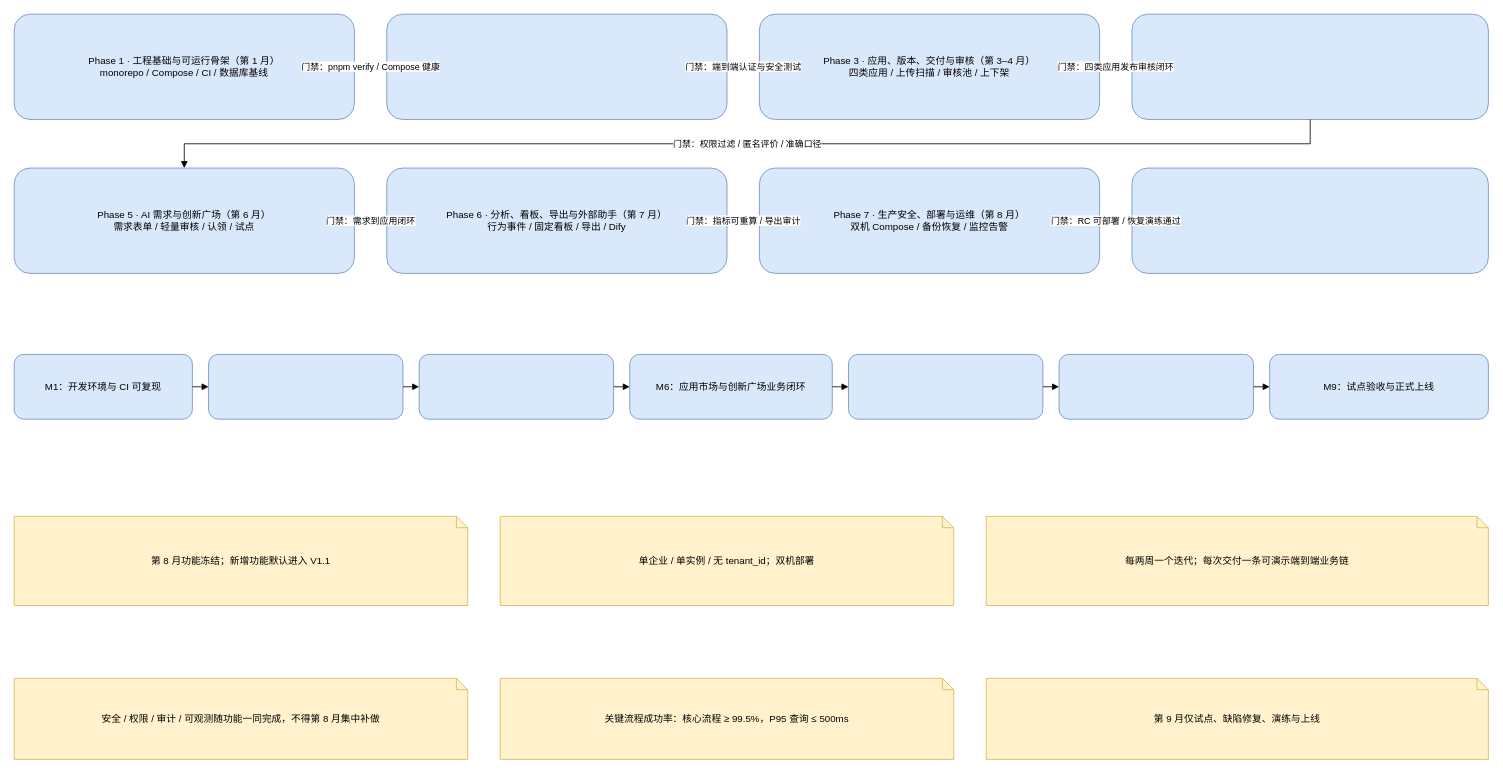
Image size: 1503x774. Some labels were removed from this diagram. Here are the shapes that lost their labels. From the top down, the centre of each, then its label:
pixel 556 66: Phase 2 · 身份、组织与授权（第 2 月） 账密 + 钉钉 OAuth / 组织同步 / RBAC
pixel 1309 66: Phase 4 · 市场、搜索、互动与创作者中心（第 5 月） 权限过滤 / 搜索 / 评价举报 / 通知
pixel 1309 220: Phase 8 · 试点与正式上线（第 9 月） 3–5 部门 / 30–50 员工 / UAT / 上线演练
pixel 305 386: M2：认证、组织与权限通过安全测试
pixel 516 386: M4：四类应用发布审核闭环
pixel 945 386: M7：看板与外部集成完成
pixel 1155 386: M8：Release Candidate 可部署
